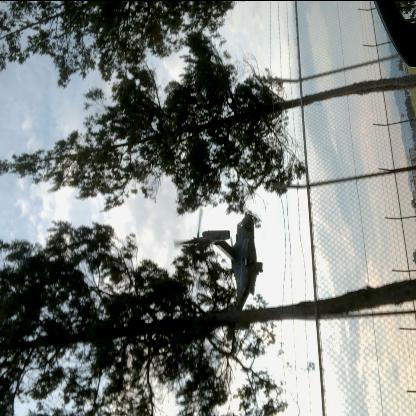Tornado: (173, 206, 263, 330)
